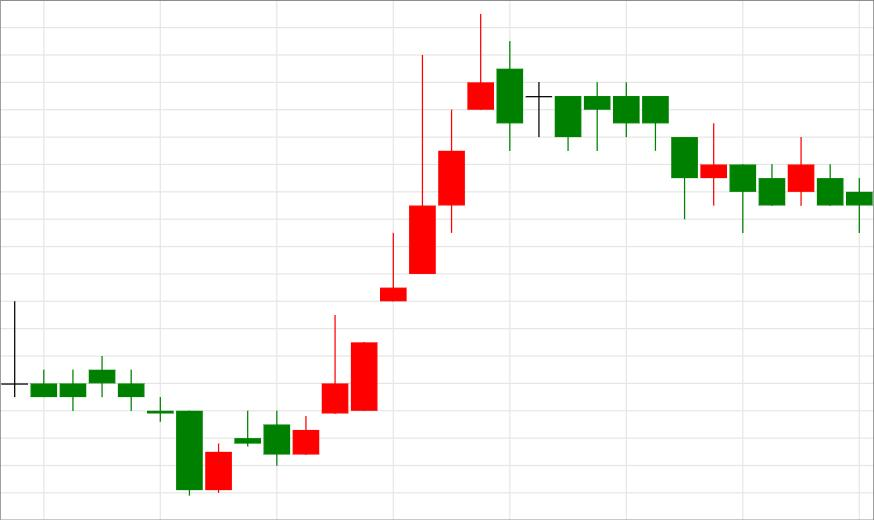shooting_star_fall: (293, 13, 495, 455)
